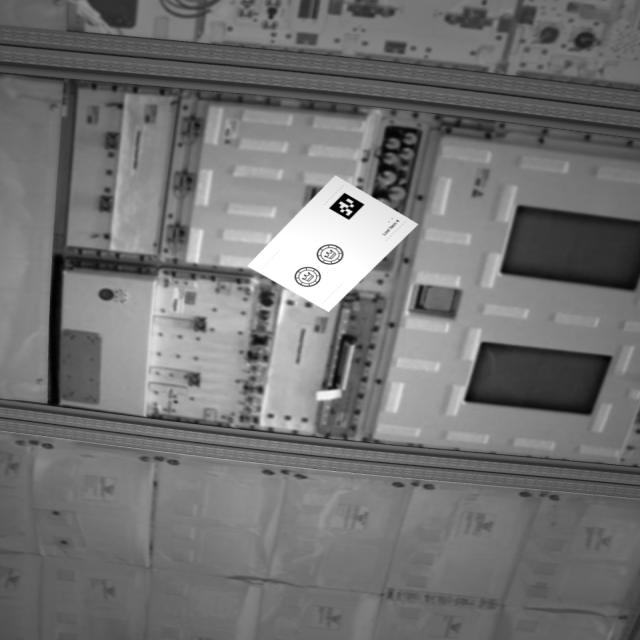coin: (316, 244, 347, 266), (294, 267, 325, 289)
